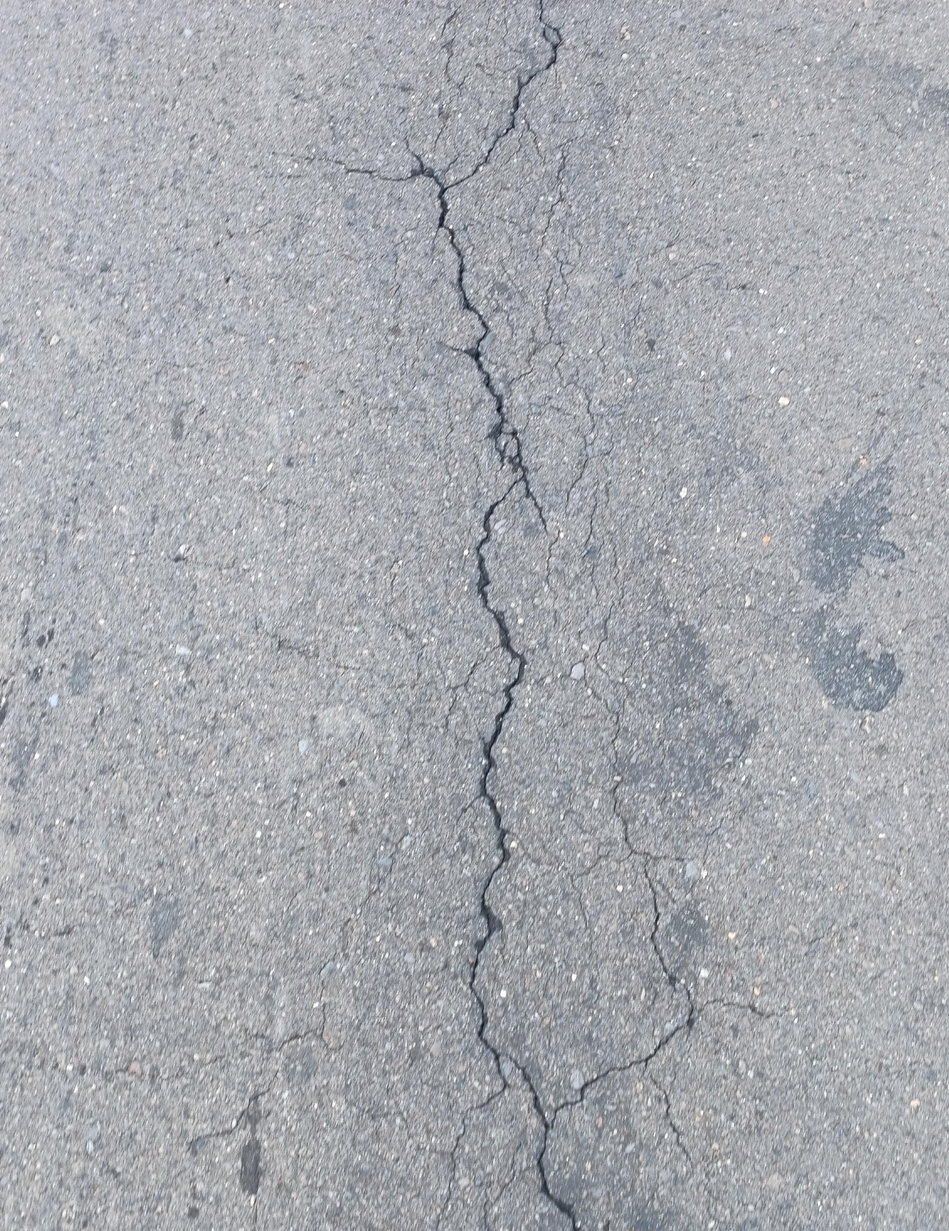GRIETA: (469, 430, 577, 1231), (439, 1, 563, 460), (551, 866, 695, 1129), (609, 728, 661, 862), (272, 151, 444, 189), (182, 1089, 270, 1157), (647, 1070, 693, 1165)
PARCHE: (811, 467, 903, 592), (809, 611, 902, 711)
PIEL DE COCODRILO: (478, 110, 645, 703), (381, 619, 513, 767), (427, 1062, 529, 1231), (418, 5, 528, 140)
